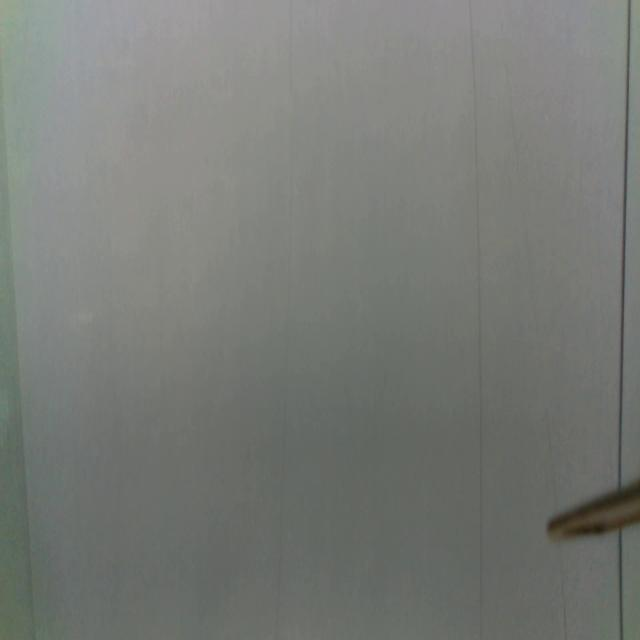crease: (497, 4, 560, 521), (0, 67, 39, 639), (274, 0, 294, 640), (467, 0, 485, 640), (617, 0, 632, 490), (616, 527, 626, 640), (558, 541, 568, 640)
